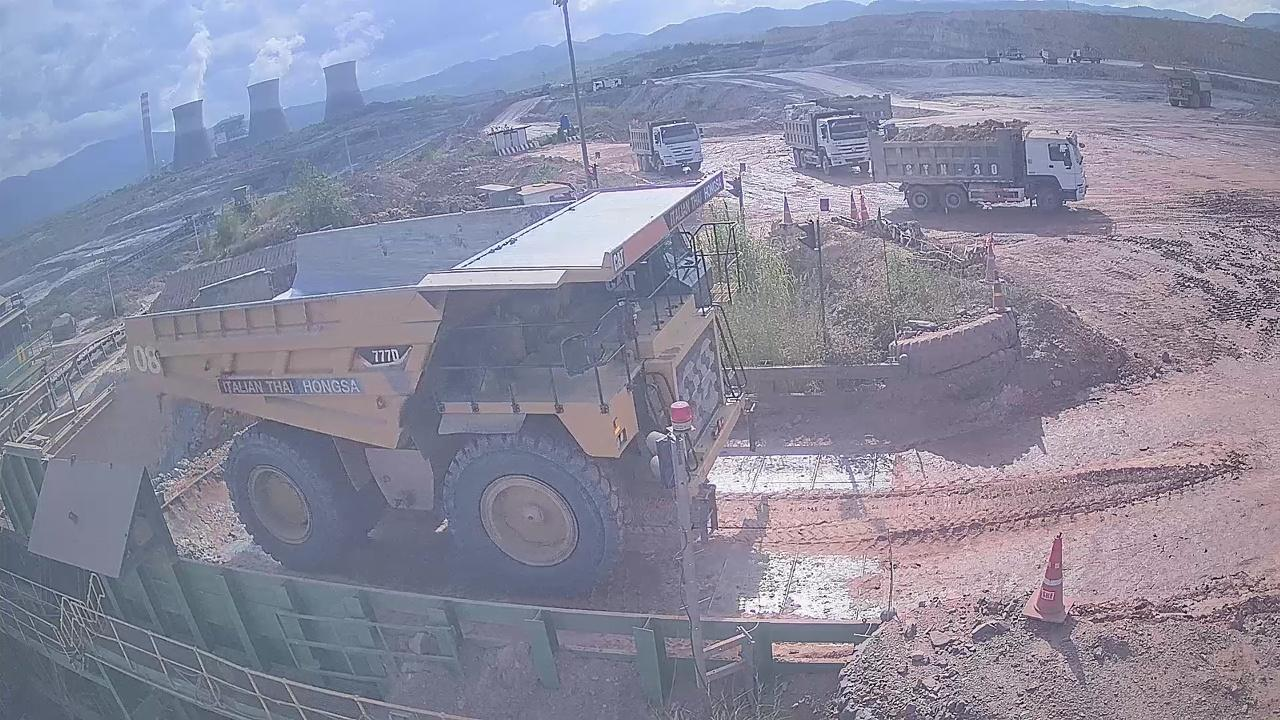company: (211, 371, 366, 402)
empty_load: (148, 199, 519, 308)
front_number: (672, 320, 730, 449)
mining truck: (123, 178, 757, 590)
tail_number: (128, 343, 167, 377)
truck_size: (352, 334, 412, 377)
